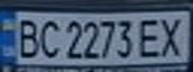2: (78, 17, 100, 60), (63, 16, 84, 61)
3: (115, 16, 139, 58)
7: (100, 17, 118, 60)
B: (12, 15, 42, 58)
C: (36, 16, 63, 60)
E: (136, 16, 166, 60)
X: (157, 14, 190, 57)
